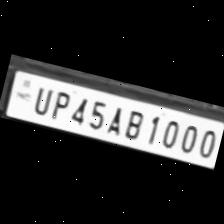0: (192, 124, 219, 159), (156, 115, 182, 150), (174, 120, 200, 154)
1: (140, 111, 164, 145)
4: (65, 90, 90, 124)
5: (84, 94, 110, 131)
A: (102, 100, 127, 136)
B: (119, 104, 147, 140)
P: (46, 86, 72, 120)
U: (27, 80, 53, 116)
